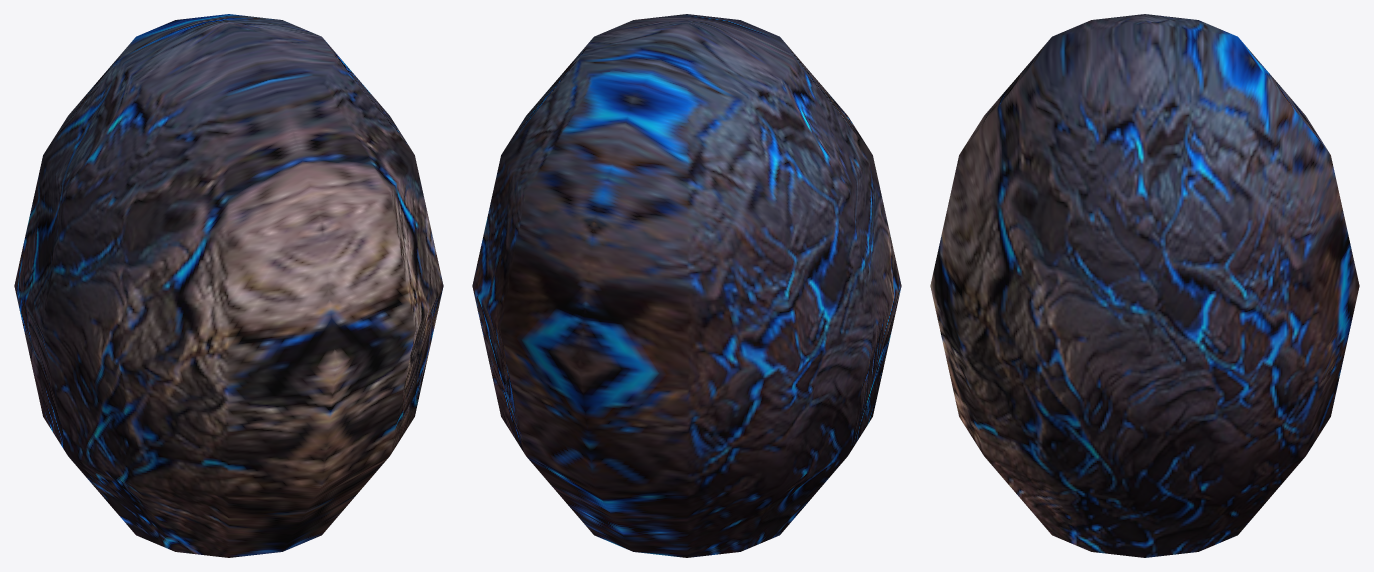
File: fx_stone_dc_001.FBX
3 renders of one model, left to right at view 1: azimuth 30°, elevation 25°; view 2: azimuth 150°, elevation 25°; view 3: azimuth 270°, elevation 25°, orthographic.
Visible parts, largest first — view 1: fx_stone_dc_001; view 2: fx_stone_dc_001; view 3: fx_stone_dc_001.
Part boxes in pixels (x1,y1,x2,y2): fx_stone_dc_001: [14, 14, 443, 557]; fx_stone_dc_001: [472, 14, 901, 557]; fx_stone_dc_001: [930, 14, 1359, 557].
Bounding box in the file's own units: 27.12 × 36.48 × 27.12.
